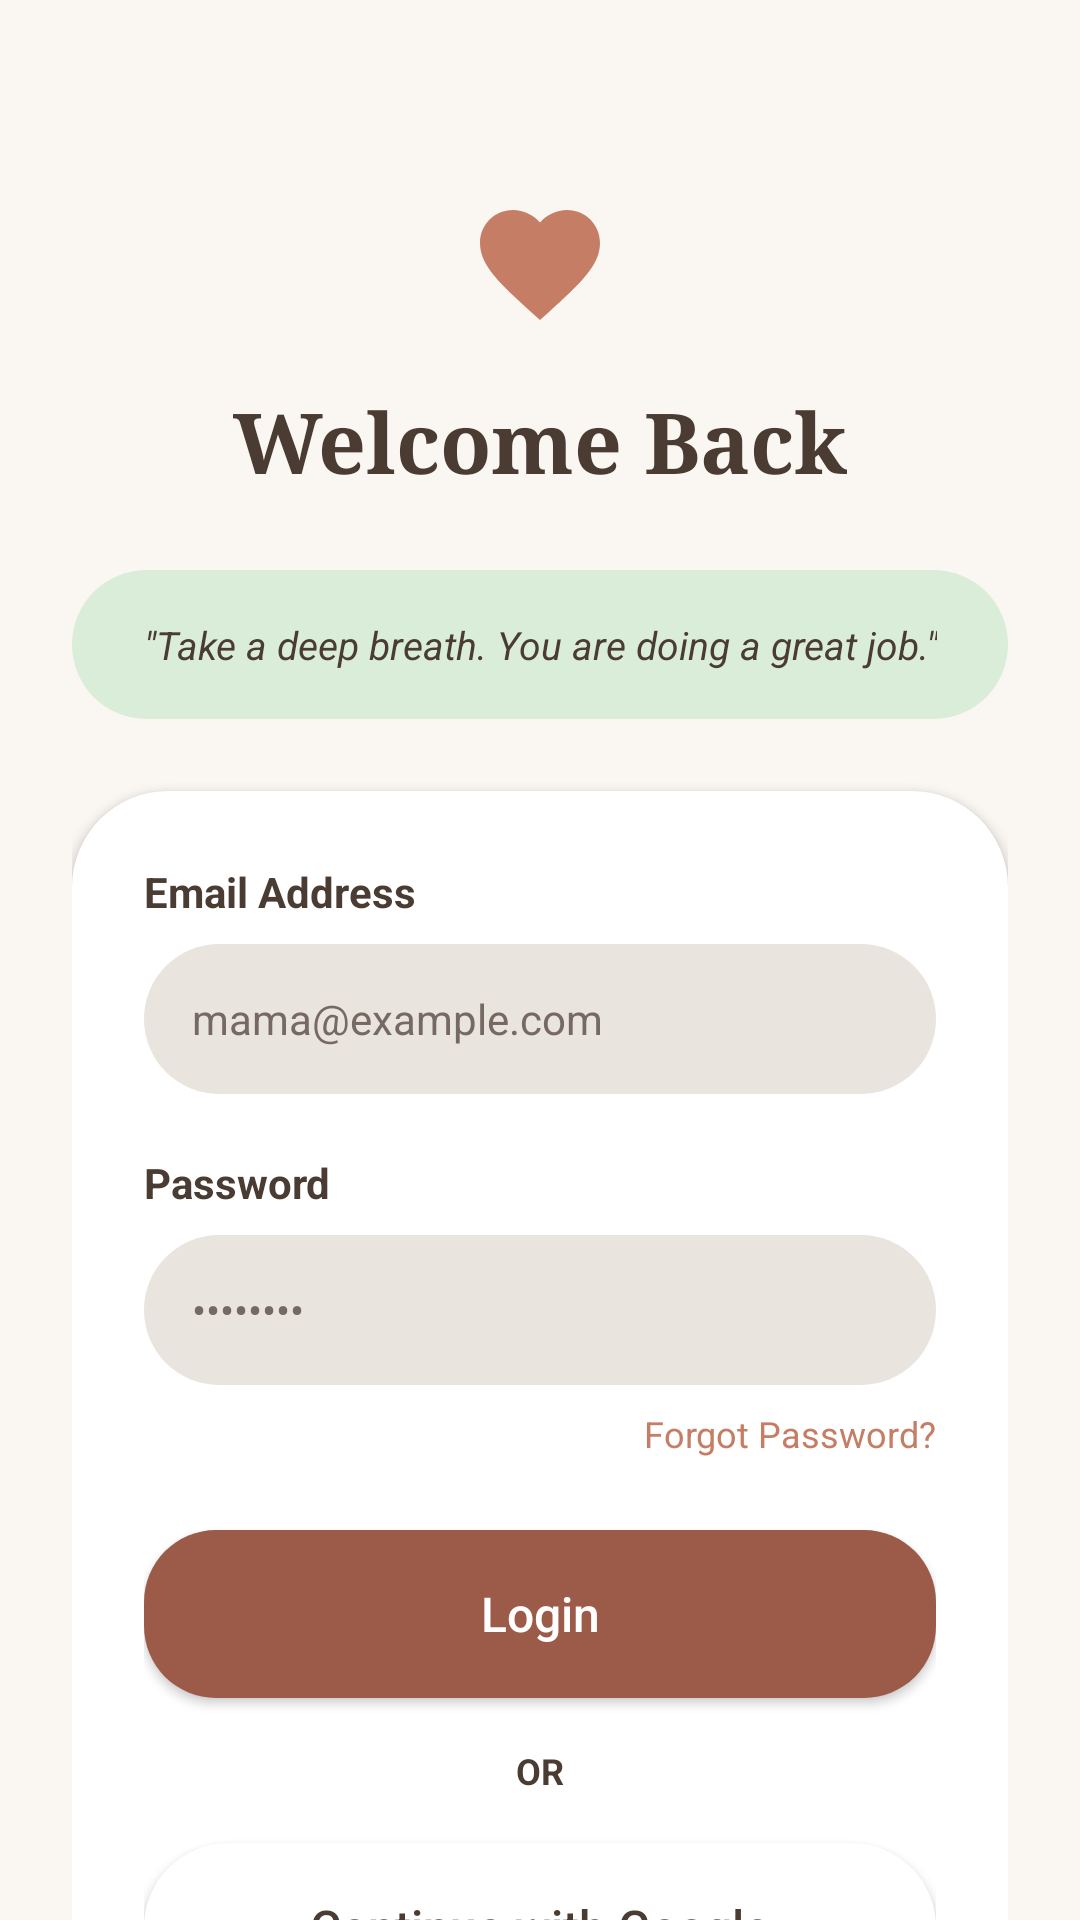

Where to tap for icons on this 1080px x 1920px app screen, as point (x, y):
heart: point (540, 265)
